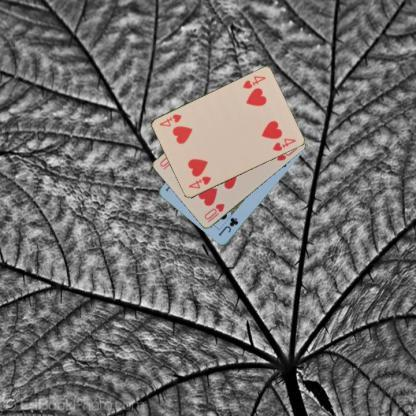10h: (201, 201, 226, 221)
4h: (240, 74, 267, 90), (186, 174, 212, 190)
Jc: (217, 214, 240, 237)
